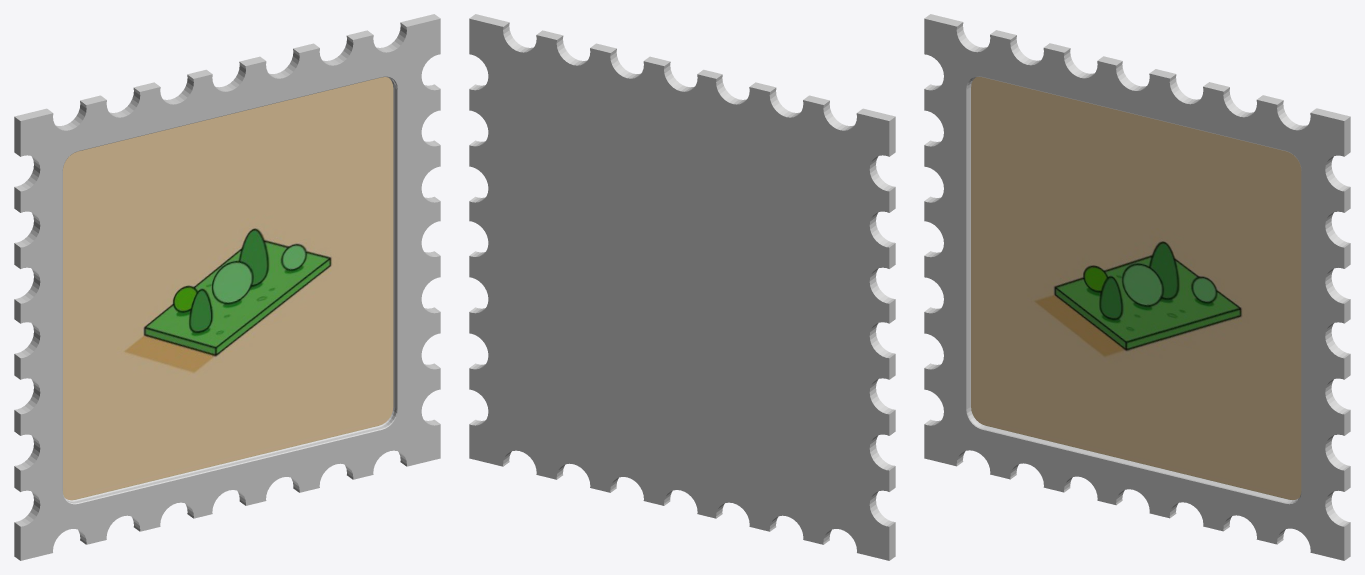
The model's file is B_Olivia_26.glb.
3 views of the same model, side by side, from view 1: azimuth 30°, elevation 25°; view 2: azimuth 150°, elevation 25°; view 3: azimuth 330°, elevation 25° (orthographic).
Parts seen in each view (by area): view 1: Plane033, Plane032; view 2: Plane032; view 3: Plane033, Plane032.
Boxes of the visible parts, x1,y1,x2,y2 form: Plane033: (63,77,393,500); Plane032: (14,14,440,560); Plane032: (469,14,895,560); Plane033: (971,77,1301,499); Plane032: (924,14,1350,560).
Size of the model in its own units: 0.3 by 0.3 by 0.00781.
Materials: 2 (1 with a texture image).
